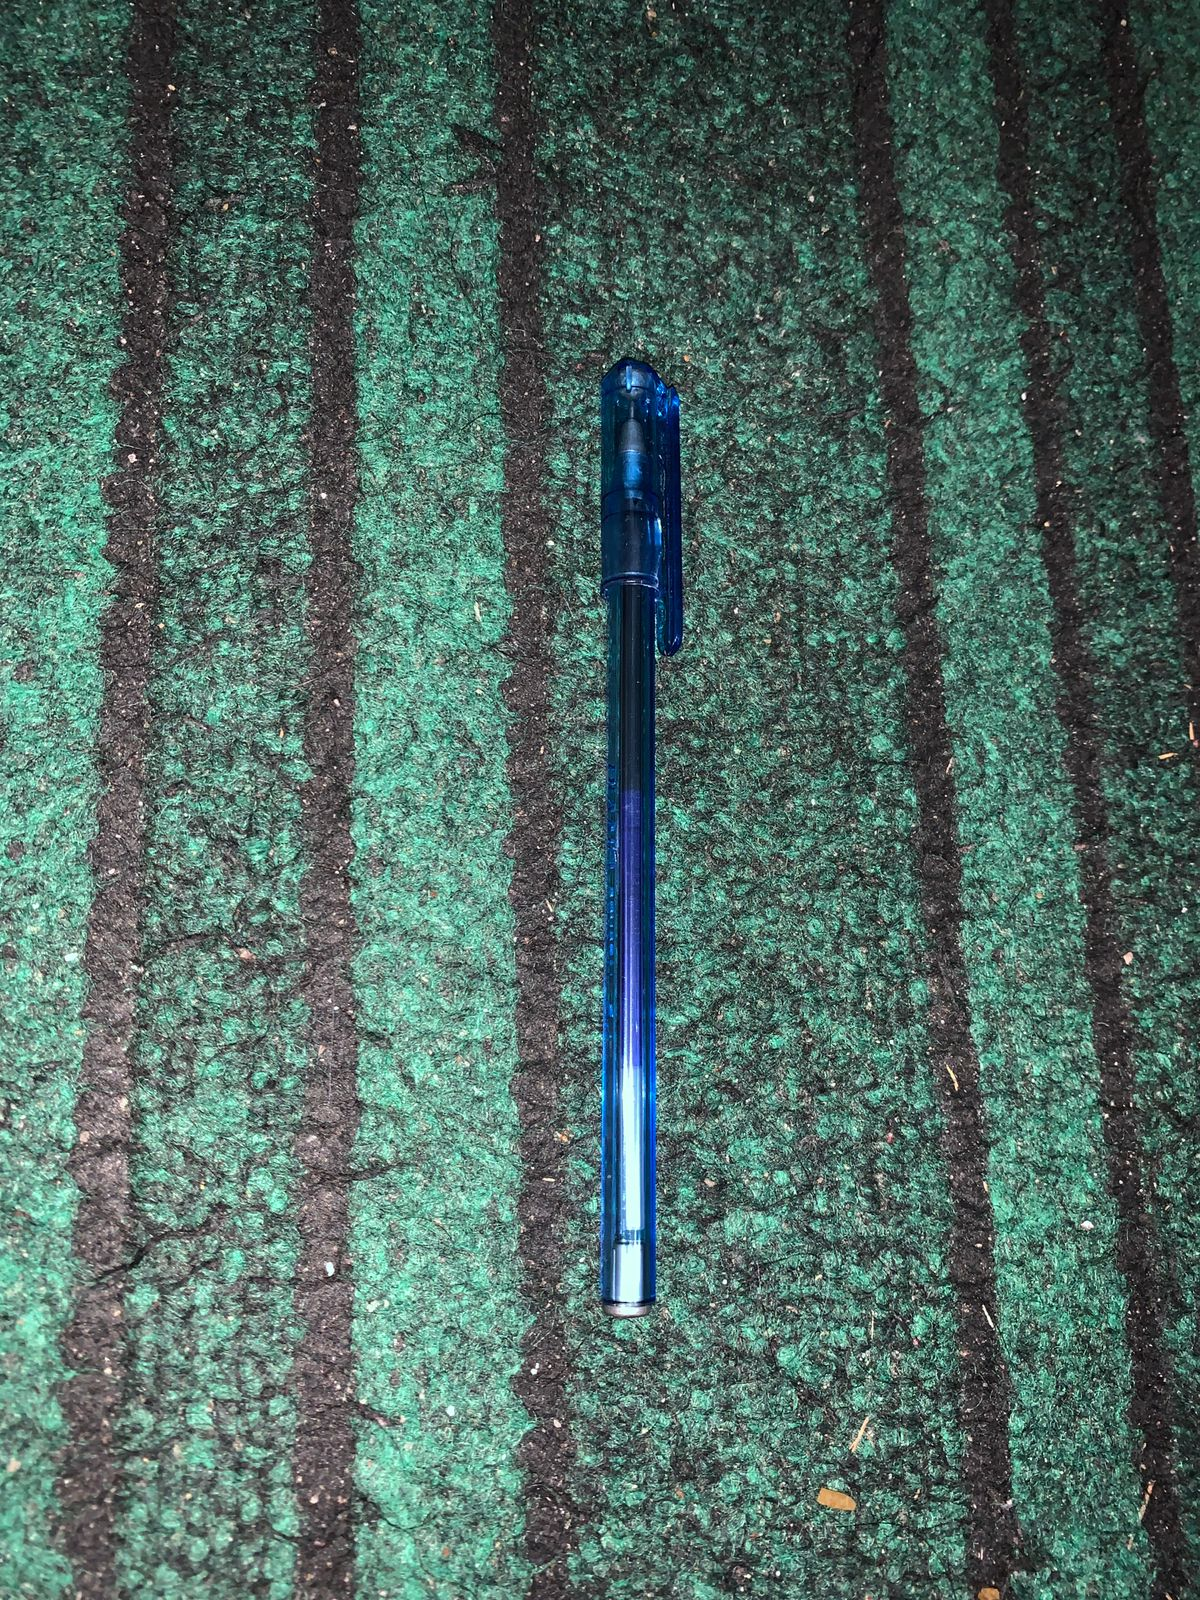pen: (424, 295, 884, 1383)
